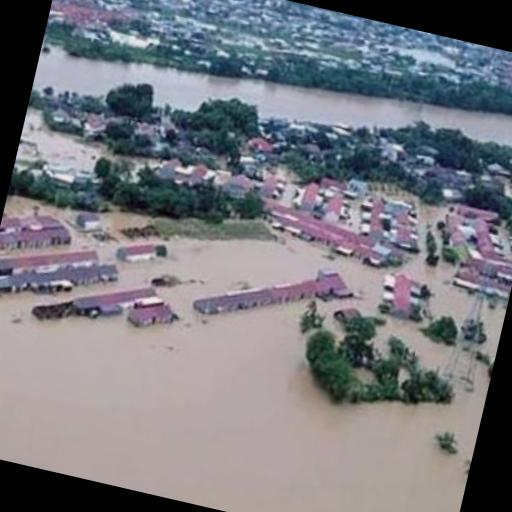flood: (0, 197, 490, 512), (33, 47, 512, 145), (400, 251, 474, 326), (20, 111, 108, 168), (375, 318, 453, 371), (478, 302, 507, 357), (417, 203, 447, 244)
house: (190, 240, 354, 348), (30, 265, 177, 355), (0, 234, 119, 331), (0, 204, 71, 273), (375, 268, 433, 324), (112, 231, 170, 271)
